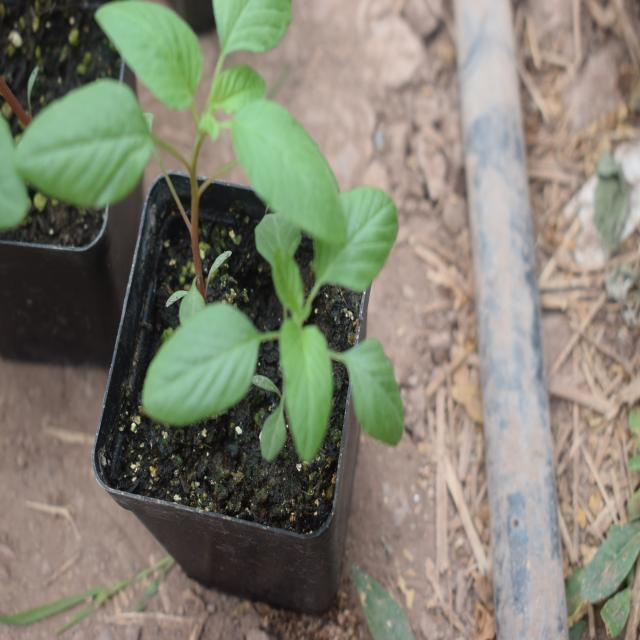pigweed: (25, 0, 351, 264)
